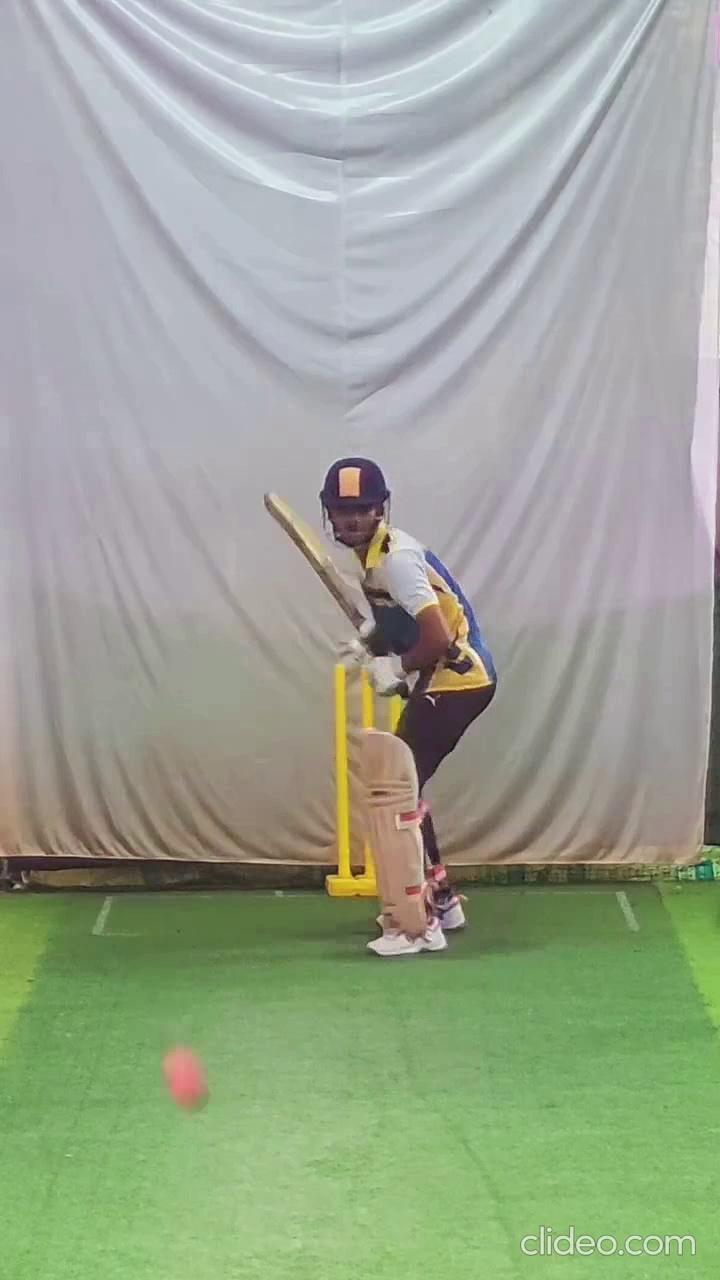bat: (254, 480, 375, 636)
